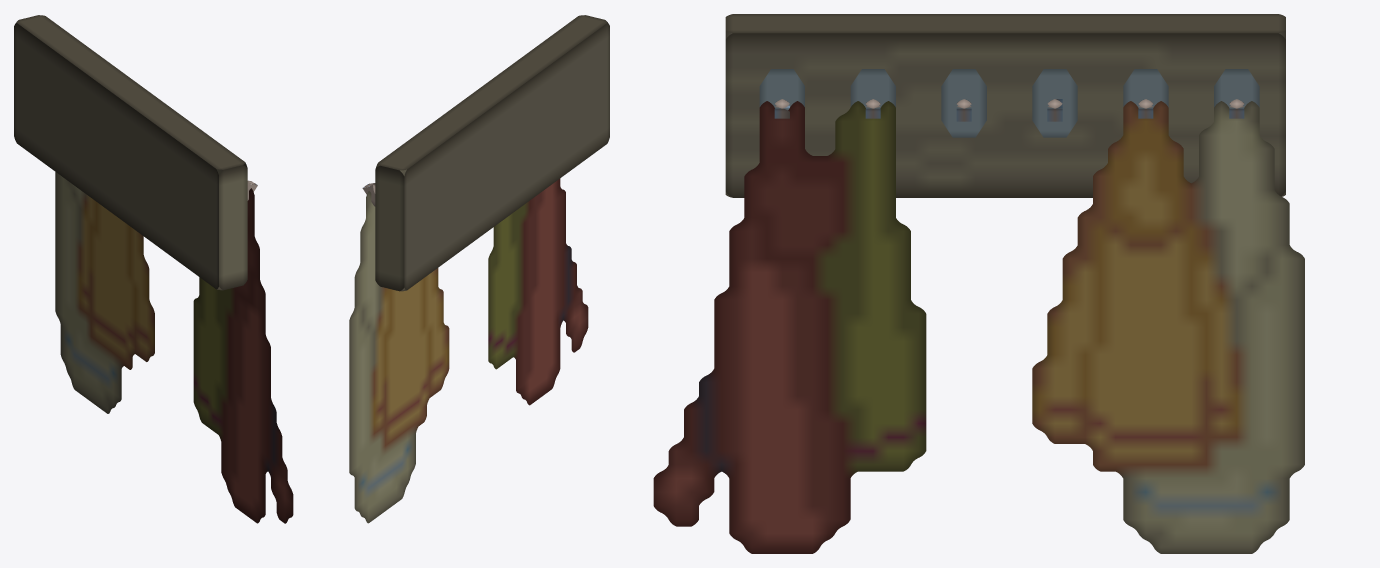
File: Coatrack.fbx
The picture shows the model from 3 angles, left to right: view 1: azimuth 30°, elevation 25°; view 2: azimuth 150°, elevation 25°; view 3: azimuth 270°, elevation 25°; orthographic projection. The views are drawn at different scales.
Parts seen in each view (by area): view 1: cube, coats; view 2: coats, cube; view 3: coats, cube, beveled_cuboid_2, beveled_cuboid_3, beveled_cuboid.014, beveled_cuboid_5, beveled_cuboid_4, beveled_cuboid_1.001.
Boxes of the visible parts, <box> form: cube: <box>14,15,247,290</box>; coats: <box>55,172,293,523</box>; coats: <box>349,178,588,523</box>; cube: <box>375,15,609,291</box>; coats: <box>653,101,1304,553</box>; cube: <box>725,14,1285,197</box>; beveled_cuboid_2: <box>941,69,986,137</box>; beveled_cuboid_3: <box>1032,69,1077,137</box>; beveled_cuboid.014: <box>759,69,804,110</box>; beveled_cuboid_5: <box>1214,69,1259,108</box>; beveled_cuboid_4: <box>1123,69,1168,108</box>; beveled_cuboid_1.001: <box>850,69,895,108</box>.
Size of the model in its own units: 17.74 by 110 by 143.
